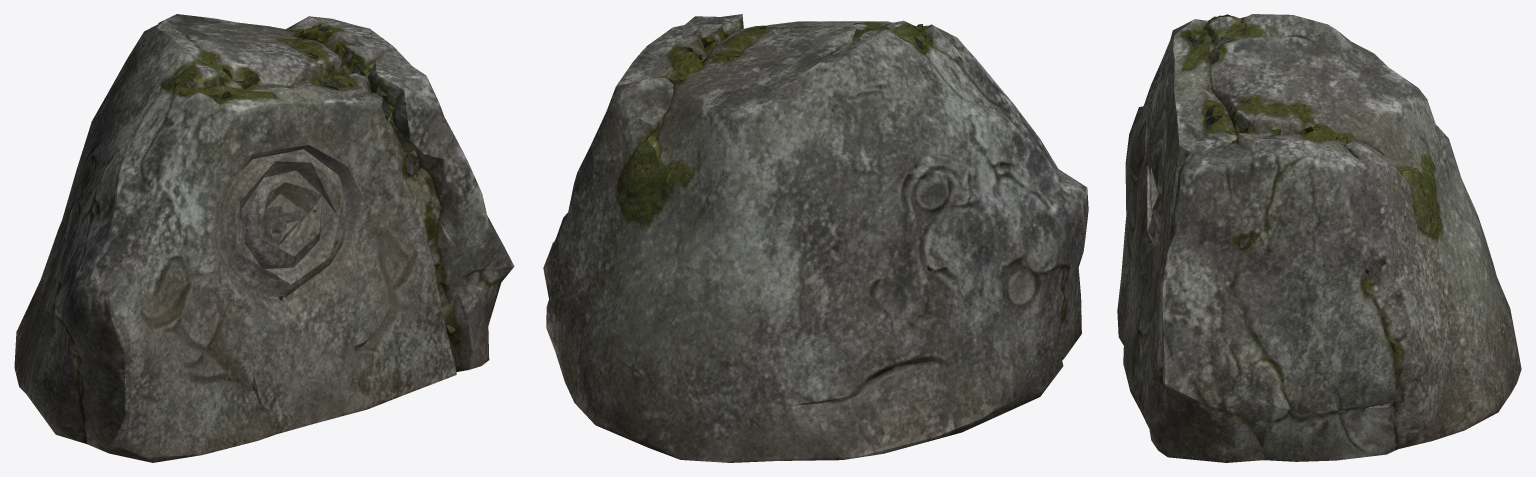
Rendered from stone-b.glb.
3 renders of one model, left to right at view 1: azimuth 30°, elevation 25°; view 2: azimuth 150°, elevation 25°; view 3: azimuth 270°, elevation 25°, orthographic. The views are drawn at different scales.
Parts seen in each view (by area): view 1: stone-b; view 2: stone-b; view 3: stone-b.
Boxes of the visible parts, x1,y1,x2,y2 form: stone-b: (14, 14, 514, 462); stone-b: (543, 14, 1088, 462); stone-b: (1117, 14, 1521, 462).
Bounding box in the file's own units: 2.65 × 1.99 × 2.22.
Materials: 1 (1 with a texture image).
